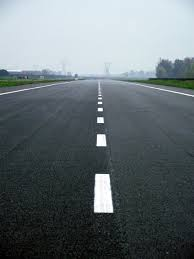strada: (0, 91, 194, 252)
